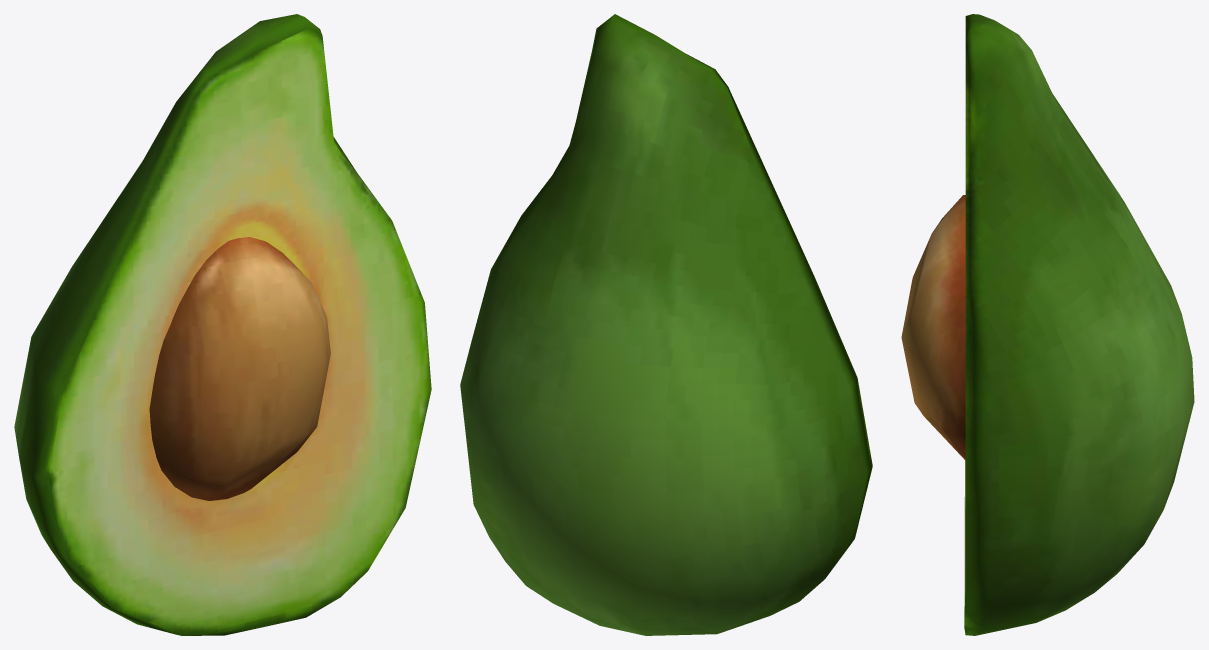
3 views of the same model, side by side, from view 1: azimuth 30°, elevation 25°; view 2: azimuth 150°, elevation 25°; view 3: azimuth 270°, elevation 25° (orthographic). The views are drawn at different scales.
Parts seen in each view (by area): view 1: Avocado; view 2: Avocado; view 3: Avocado.
Part boxes in pixels (x1,y1,x2,y2): Avocado: [14, 14, 431, 635]; Avocado: [460, 14, 872, 635]; Avocado: [901, 14, 1194, 635].
Bounding box in the file's own units: 0.0425 × 0.0629 × 0.0276.
1 material, 1 textured.
